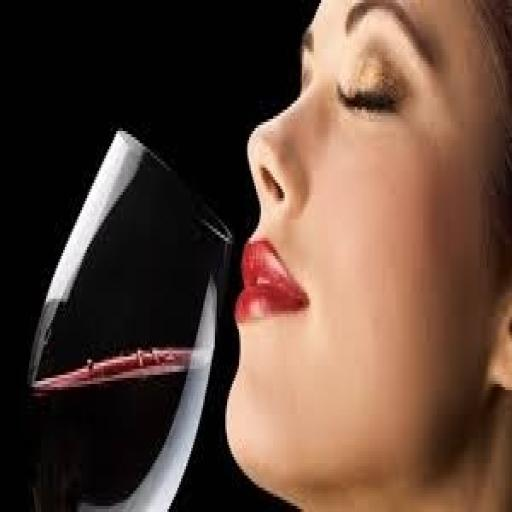drinking: (24, 0, 508, 509)
